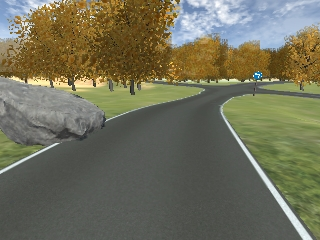left: (252, 72, 261, 80)
